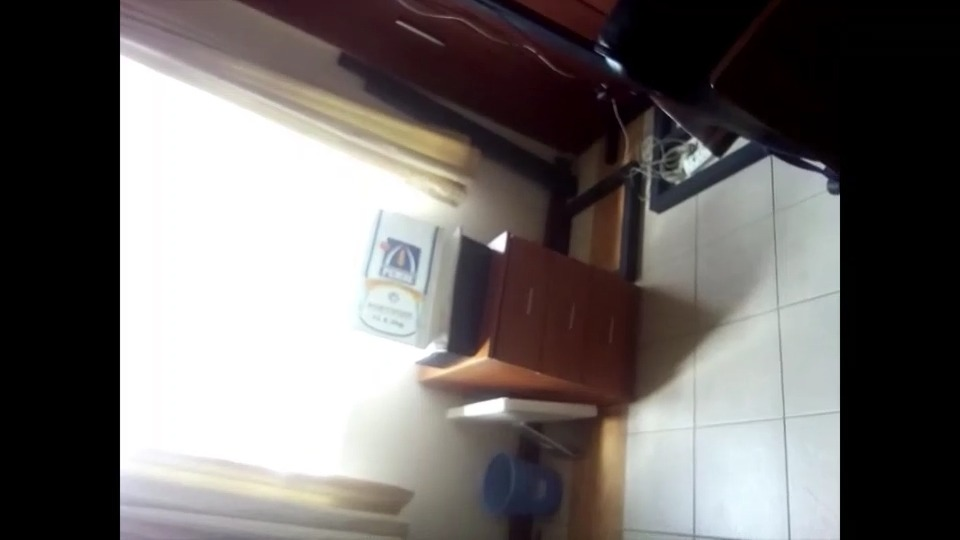maize_flour_green_label: (354, 210, 436, 344)
